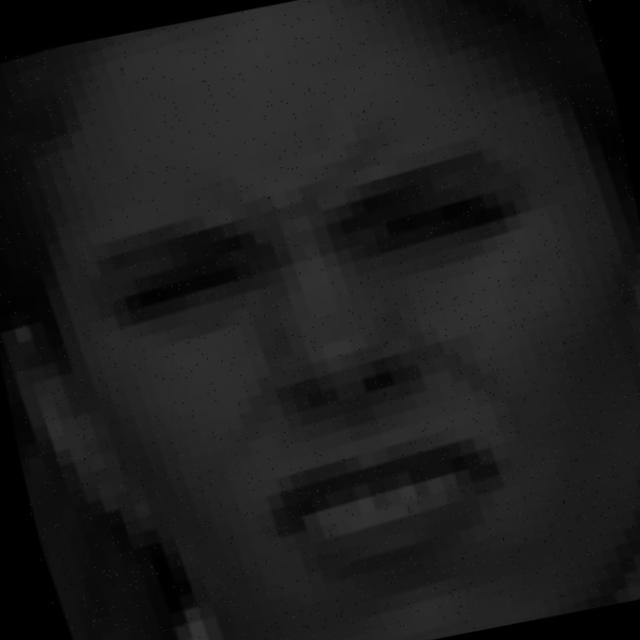Disgust: (29, 92, 577, 611)
